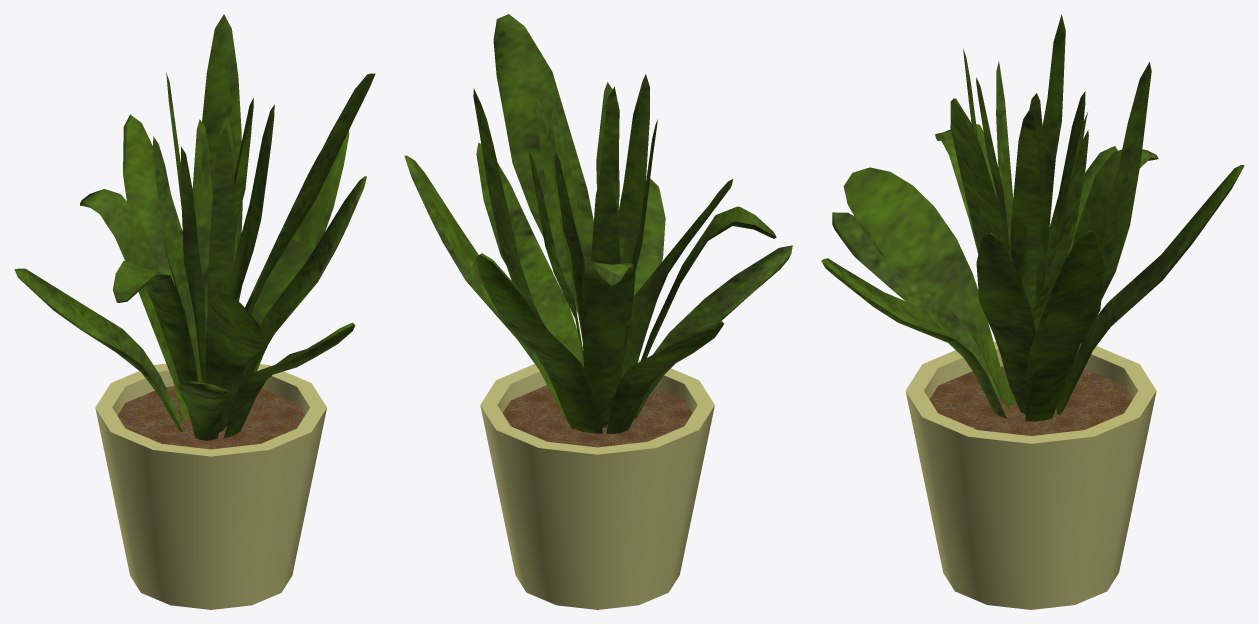
File: Plant_3.fbx
3 views of the same model, side by side, from view 1: azimuth 30°, elevation 25°; view 2: azimuth 150°, elevation 25°; view 3: azimuth 270°, elevation 25° (orthographic). The views are drawn at different scales.
Visible parts, largest first — view 1: Plant_3_LOD_0; view 2: Plant_3_LOD_0; view 3: Plant_3_LOD_0.
Part boxes in pixels (<box>): Plant_3_LOD_0: <box>14,14,375,609</box>; Plant_3_LOD_0: <box>404,14,792,609</box>; Plant_3_LOD_0: <box>821,14,1244,609</box>.
Size of what is drawn, in the model's own units: 60.05 by 90.13 by 63.27.
